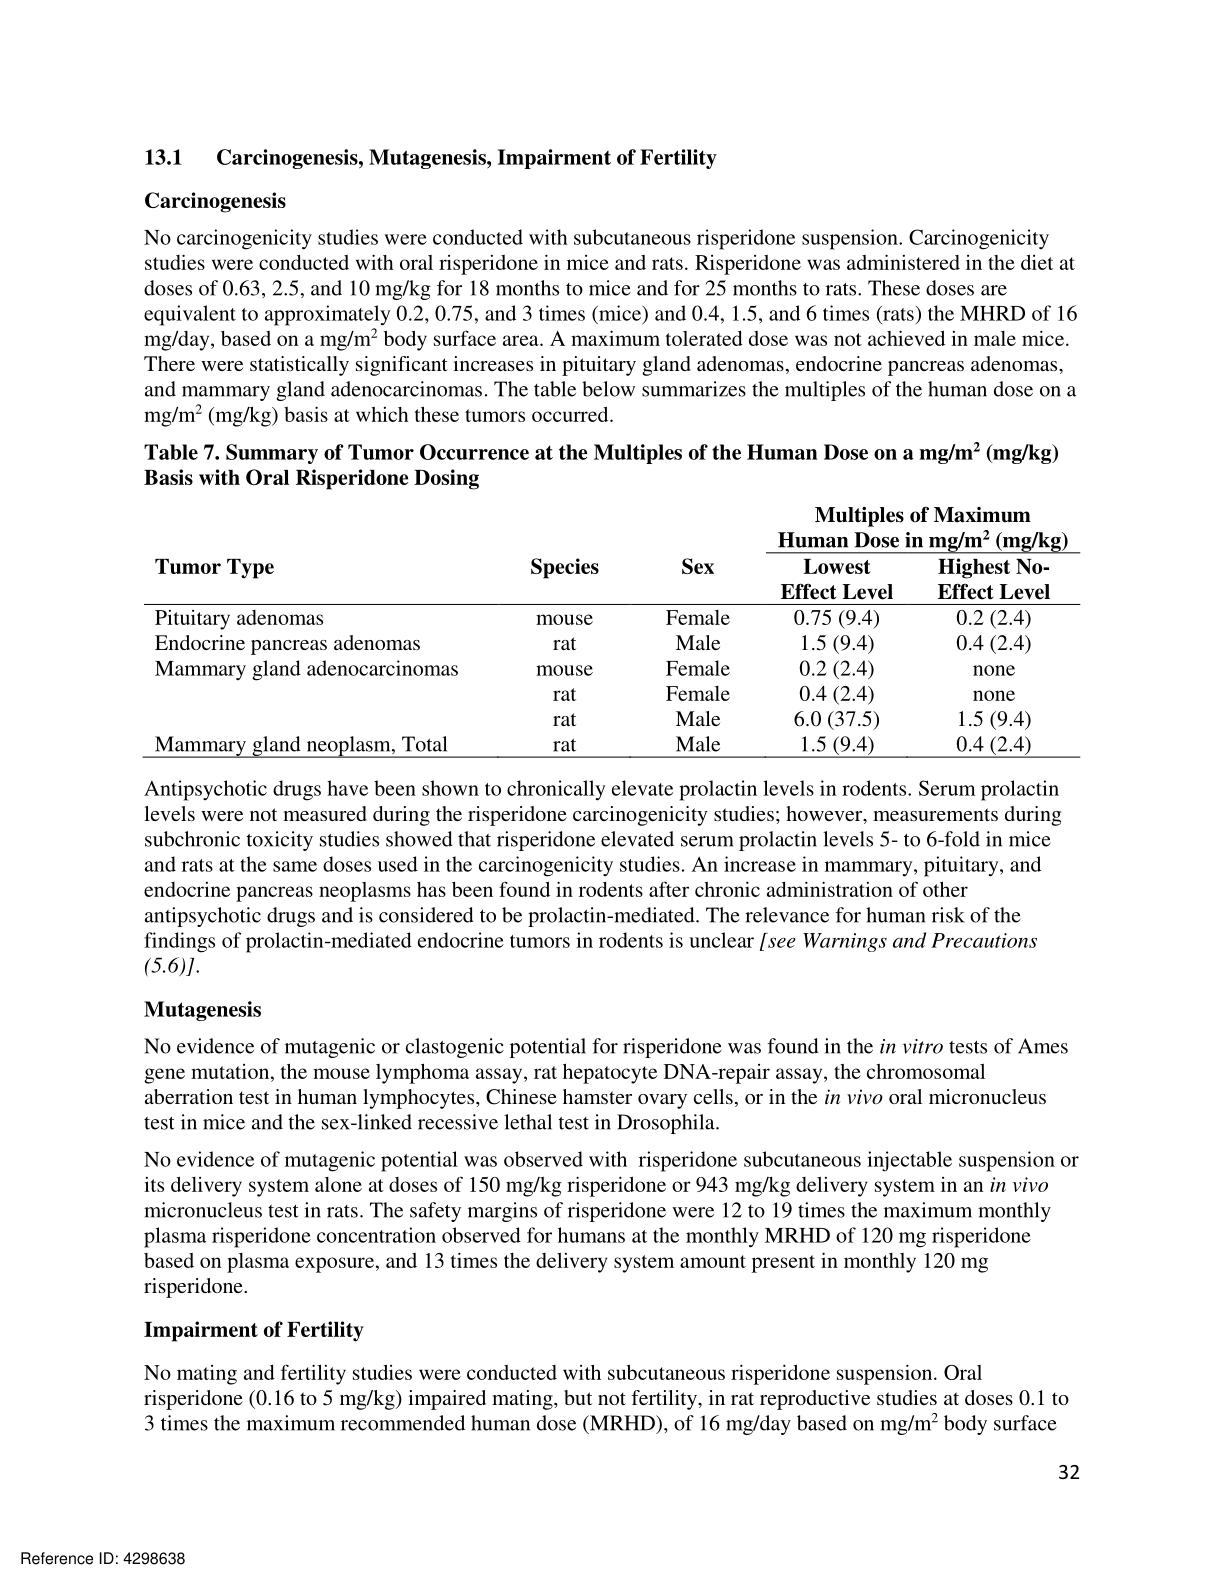partial_lined_merged_cells: (143, 500, 1083, 755)
